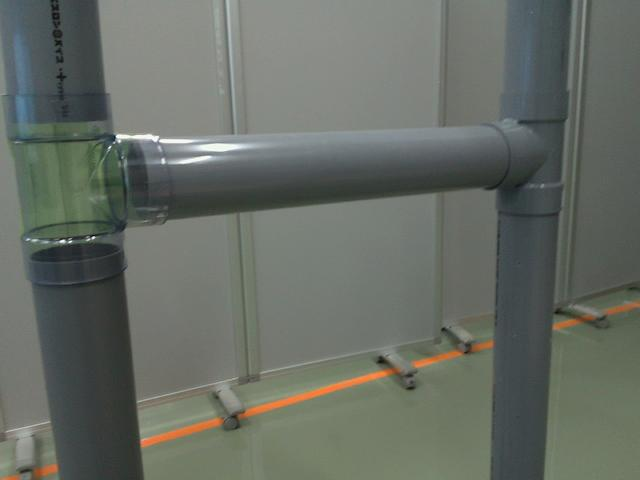junction: (14, 90, 163, 291), (478, 88, 569, 209)
